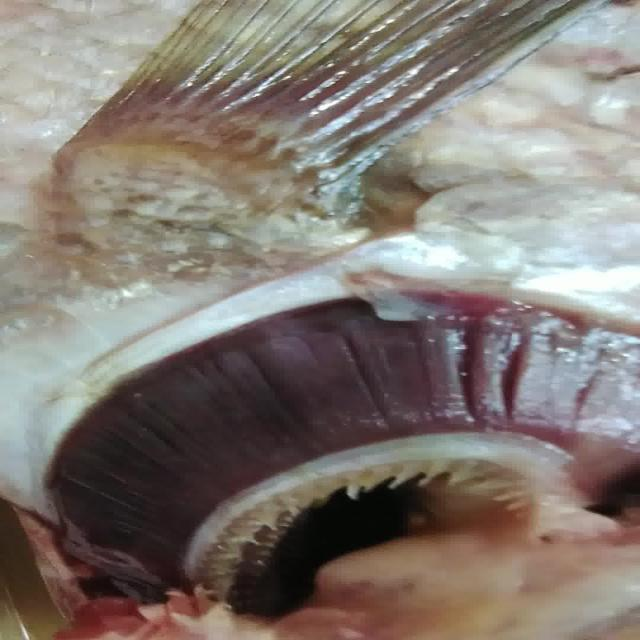Non-Fresh: (10, 268, 618, 583)
